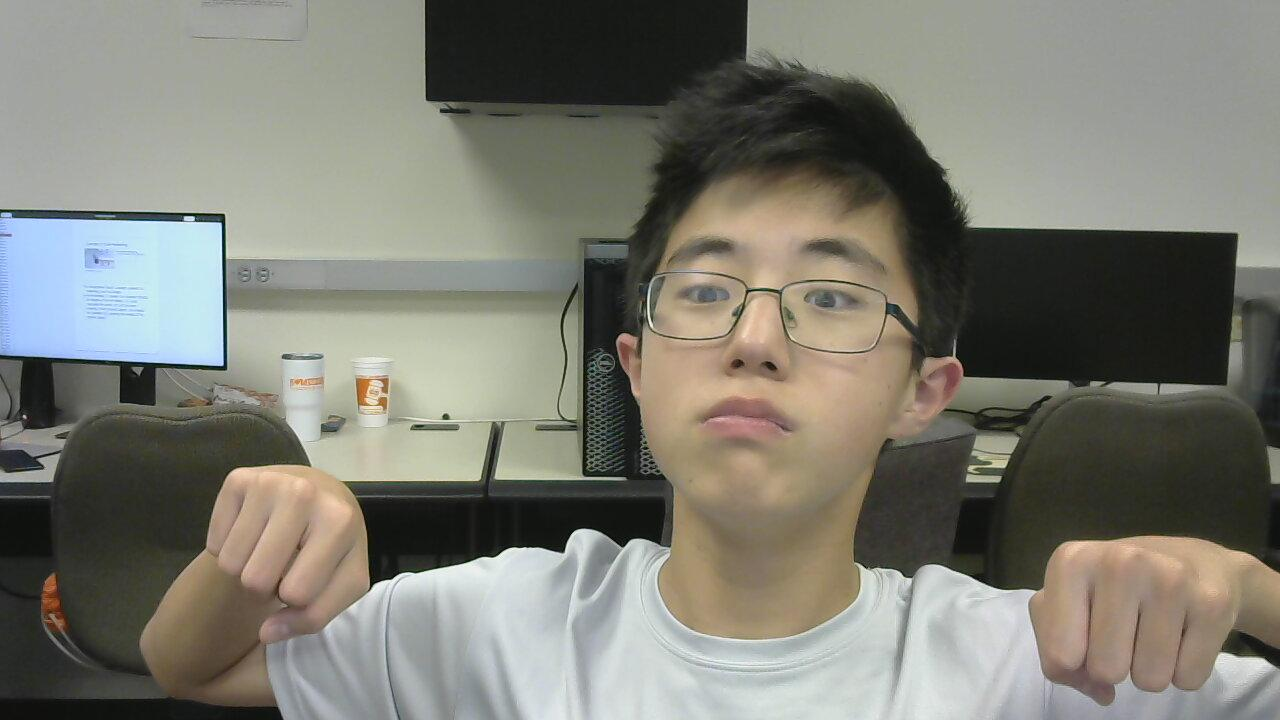fist: (1021, 534, 1269, 698), (196, 439, 384, 651)
